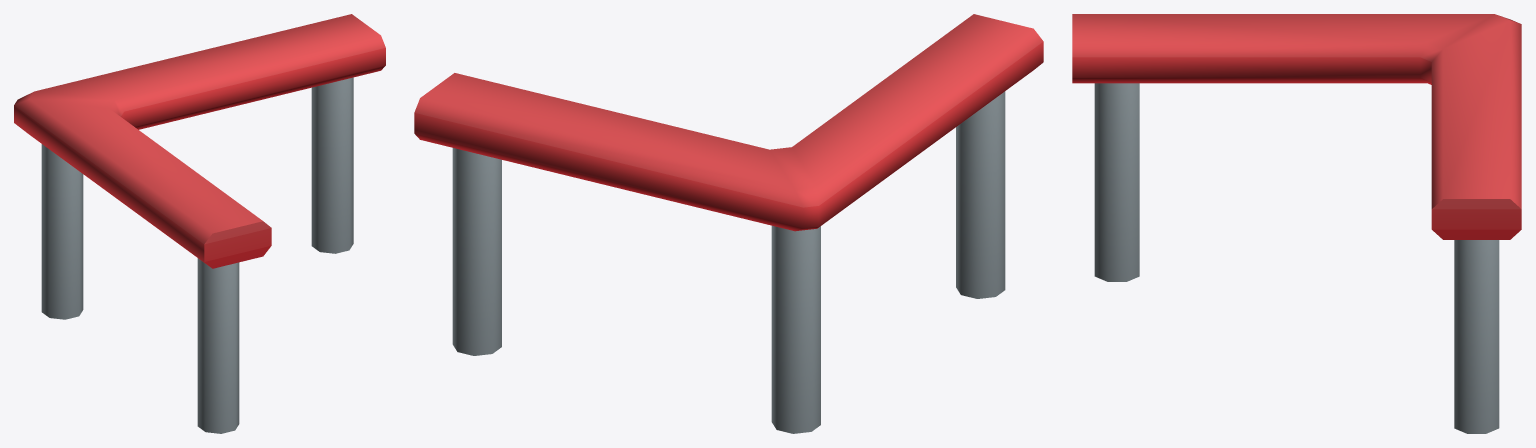
Rendered from railing_corner_single_red.glb.
3 views of the same model, side by side, from view 1: azimuth 30°, elevation 25°; view 2: azimuth 150°, elevation 25°; view 3: azimuth 270°, elevation 25° (orthographic). The views are drawn at different scales.
Visible parts, largest first — view 1: railing_corner_single_red; view 2: railing_corner_single_red; view 3: railing_corner_single_red.
Part boxes in pixels (left/top/right/bottom): railing_corner_single_red: left=14, top=14, right=385, bottom=433; railing_corner_single_red: left=414, top=14, right=1043, bottom=433; railing_corner_single_red: left=1072, top=14, right=1521, bottom=433.
Bounding box in the file's own units: 2 × 1.2 × 2.
1 material, 1 textured.
